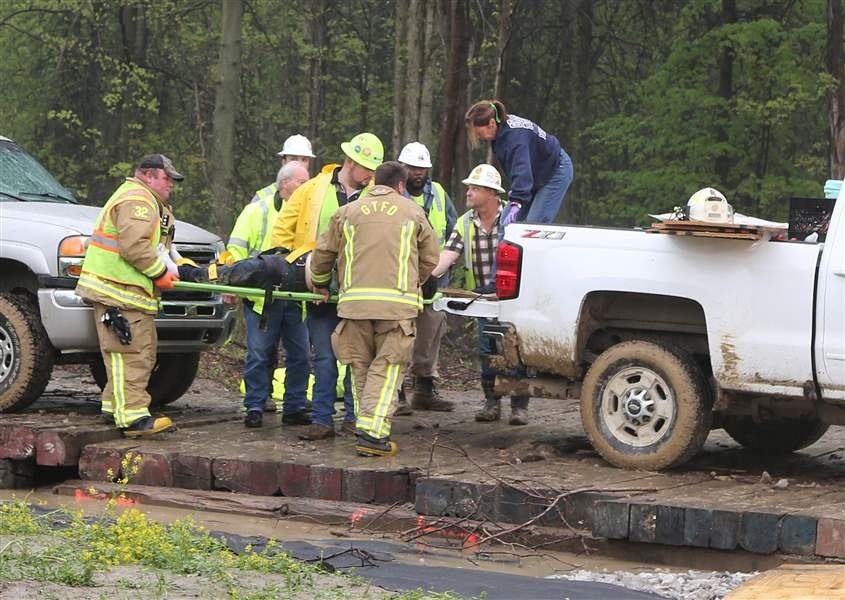none: (134, 154, 174, 196), (464, 100, 500, 144), (275, 160, 308, 199), (374, 162, 406, 194)
white: (462, 165, 502, 211), (398, 142, 430, 190), (283, 134, 313, 168)
yellow: (339, 129, 384, 185)
